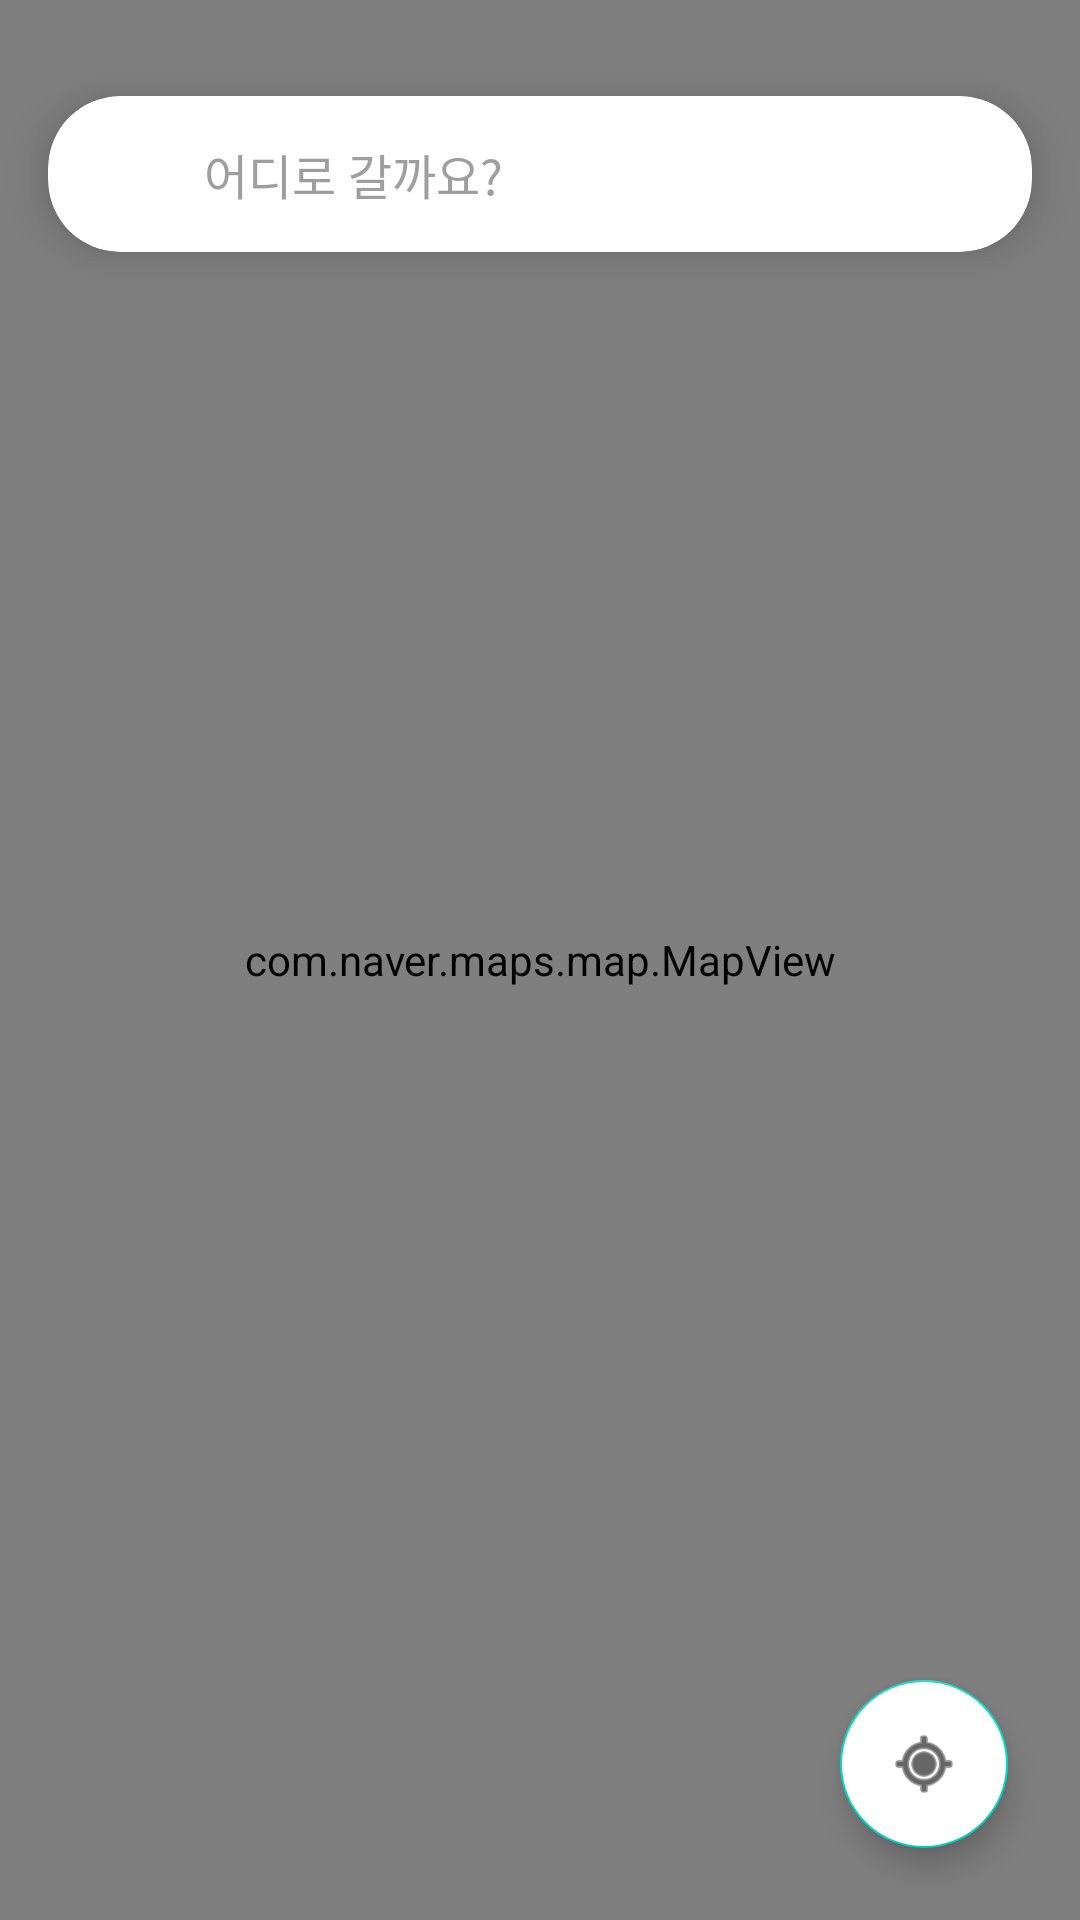

Named icons in this screenshot (1080px×1920px) and their bounding boxes, bbox=[x1, y1, x2, y2]:
mylocation: bbox=[840, 1680, 1008, 1848]
